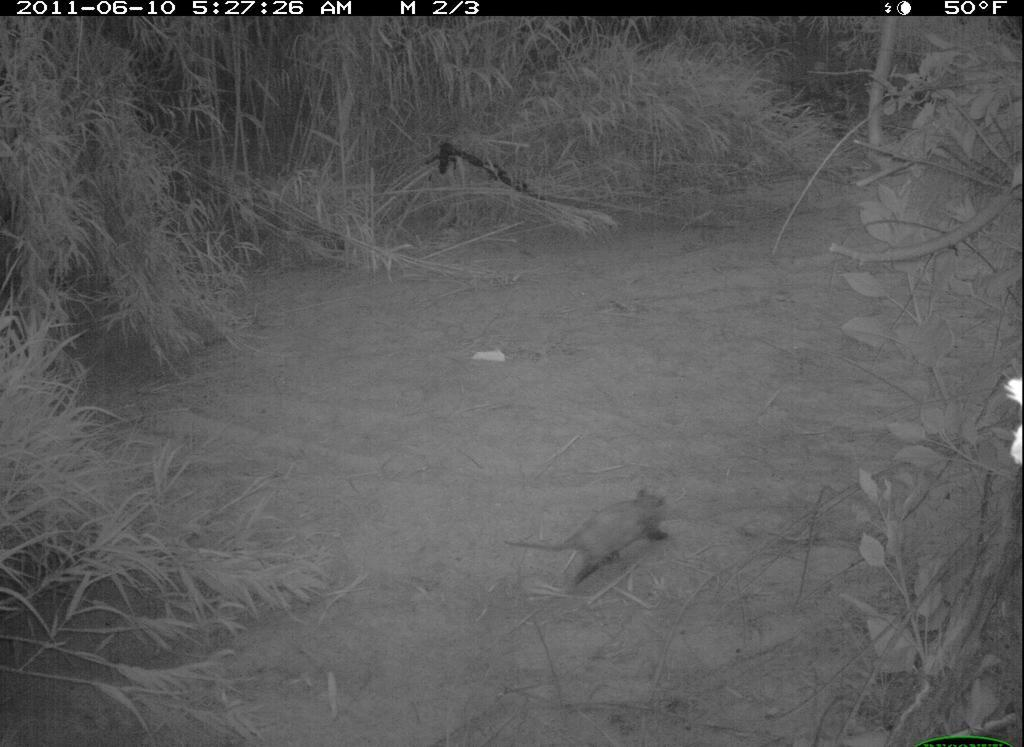opossum: (504, 481, 678, 592)
